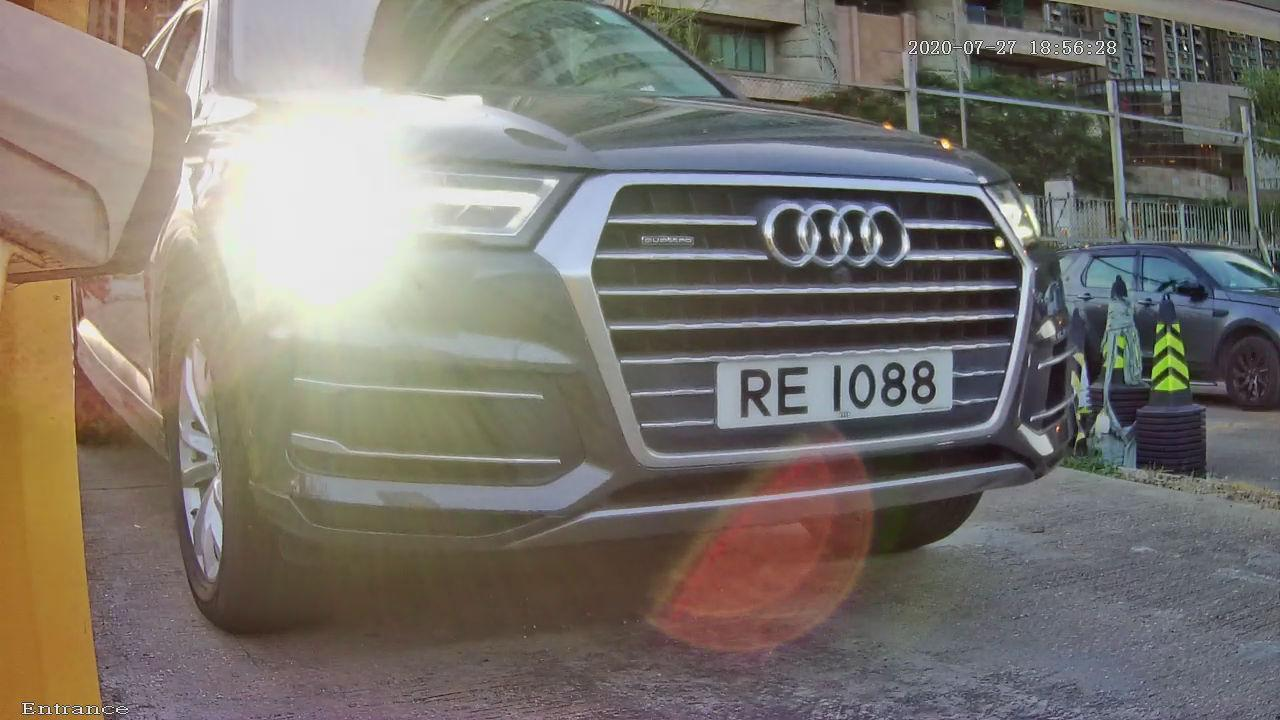privatecar: (149, 1, 1103, 595)
